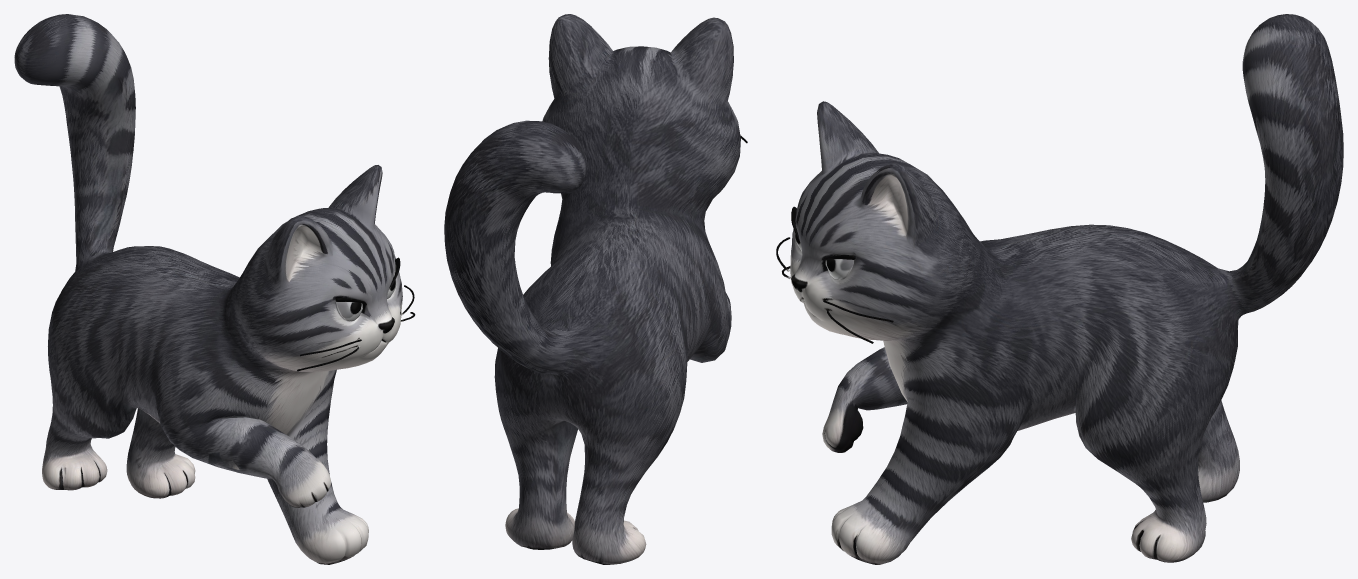
The model's file is forth.obj.
The picture shows the model from 3 angles, left to right: view 1: azimuth 30°, elevation 25°; view 2: azimuth 150°, elevation 25°; view 3: azimuth 270°, elevation 25°; orthographic projection. The views are drawn at different scales.
Visible parts, largest first — view 1: tripo_62adac4a_12d7_4820_9f41_5975d499fa6d; view 2: tripo_62adac4a_12d7_4820_9f41_5975d499fa6d; view 3: tripo_62adac4a_12d7_4820_9f41_5975d499fa6d.
Boxes of the visible parts, <box> form: tripo_62adac4a_12d7_4820_9f41_5975d499fa6d: <box>14,14,415,564</box>; tripo_62adac4a_12d7_4820_9f41_5975d499fa6d: <box>444,14,747,564</box>; tripo_62adac4a_12d7_4820_9f41_5975d499fa6d: <box>776,14,1343,564</box>.
Bounding box in the file's own units: 0.5435 × 0.9858 × 0.9995.
Materials: 1 (1 with a texture image).
